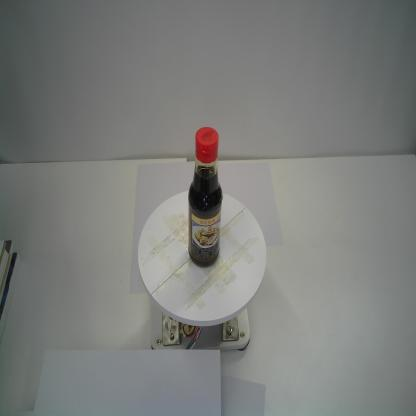Seasoner: (188, 126, 224, 269)
